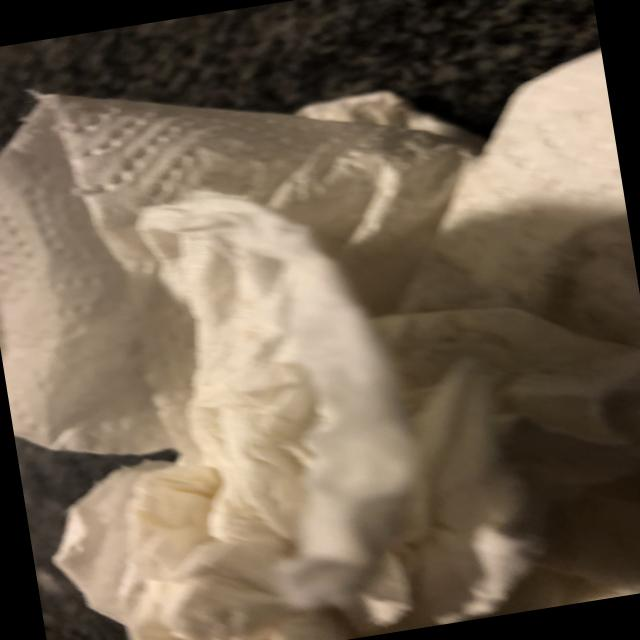organic waste: (0, 146, 567, 640), (0, 25, 524, 480), (329, 46, 640, 629)
